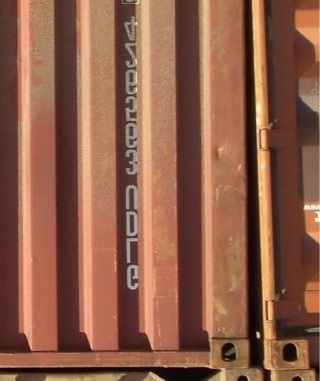container_no_door: (1, 2, 247, 369)
